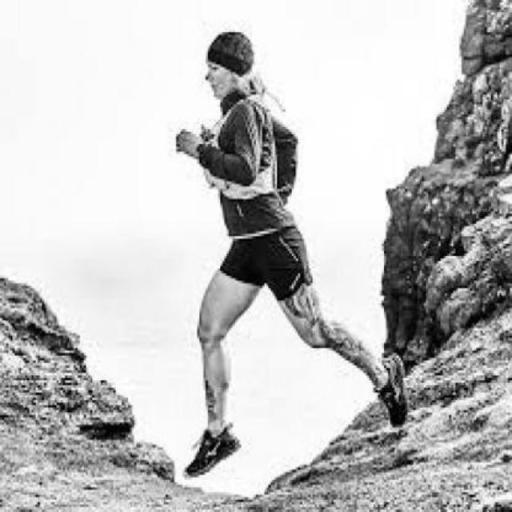Running: (83, 5, 467, 509)
